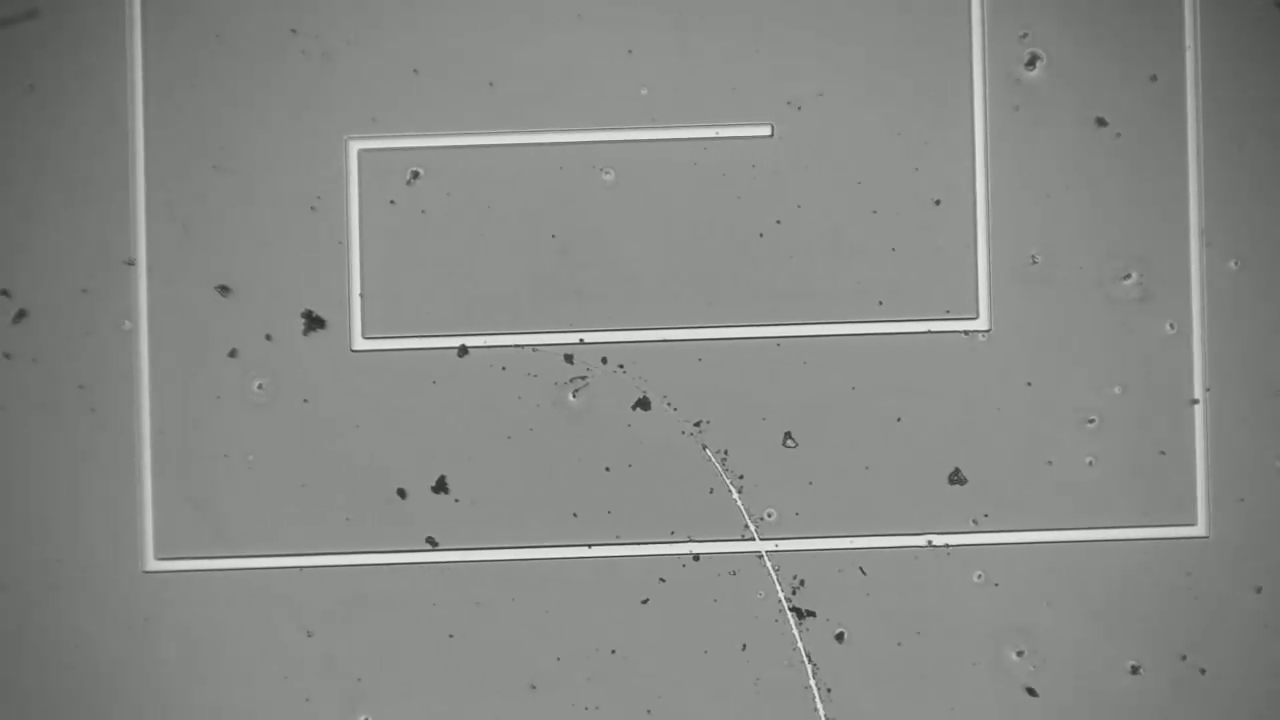scratch: (681, 410, 867, 720)
stains_enbedded: (446, 328, 481, 370)
